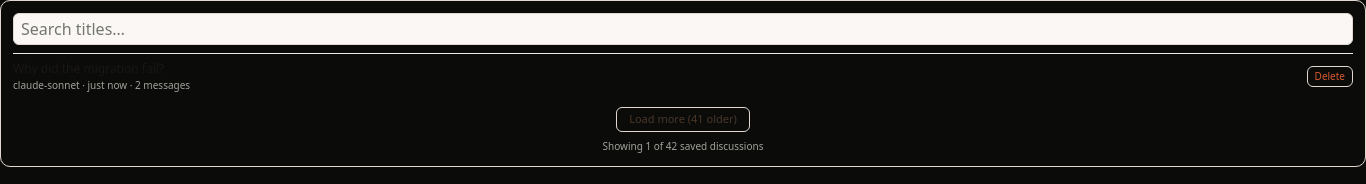
Test: DiscussHistoryDrawer › reports how many threads an applied search matched
The width and height of the screenshot is (1366, 184).
Type "fail" into the field named "search saved discussions by title" at (683, 29), box [13,13,1353,45]
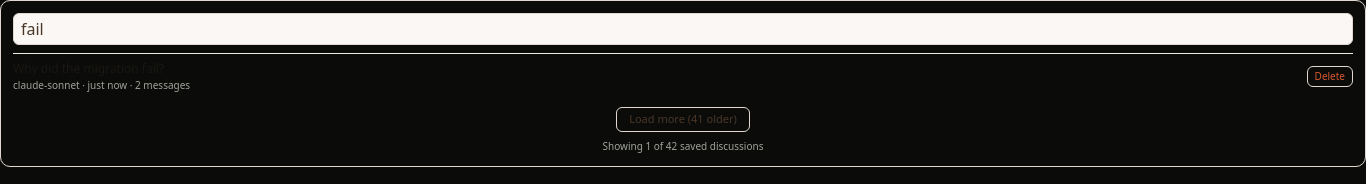
Press Enter in the field named "search saved discussions by title", box [13,13,1353,45]
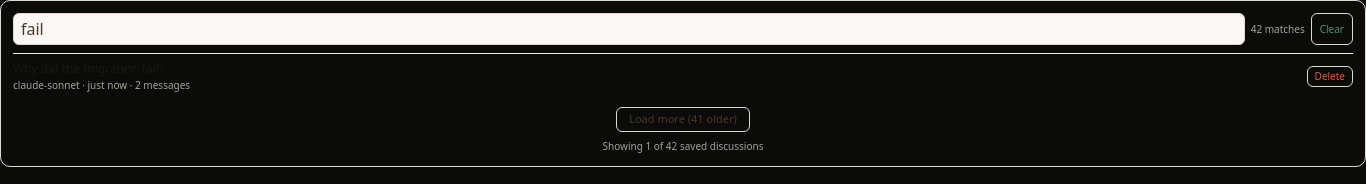
Check: the text "42 matches" is shown, box [1251,22,1305,36]
